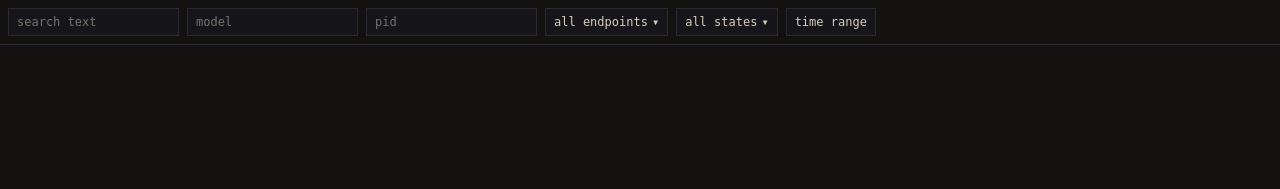
Scenario: RequestsFilterBar › state select lists only terminal states (no streaming/pending/executing)
Click the dropdown labelled "state". click: (727, 22)
box: [676,8,778,36]
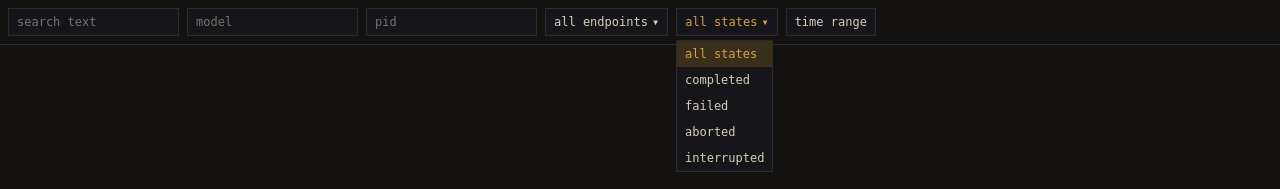
Expected: the text "completed" is shown, [685,73,750,87]
Expected: the text "failed" is shown, [685,99,728,113]
Expected: the text "aborted" is shown, [685,125,736,139]
